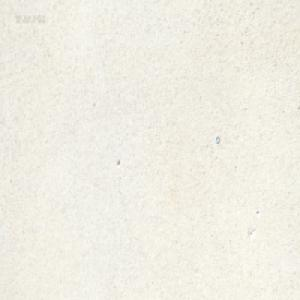Washer: (215, 135, 220, 144)
